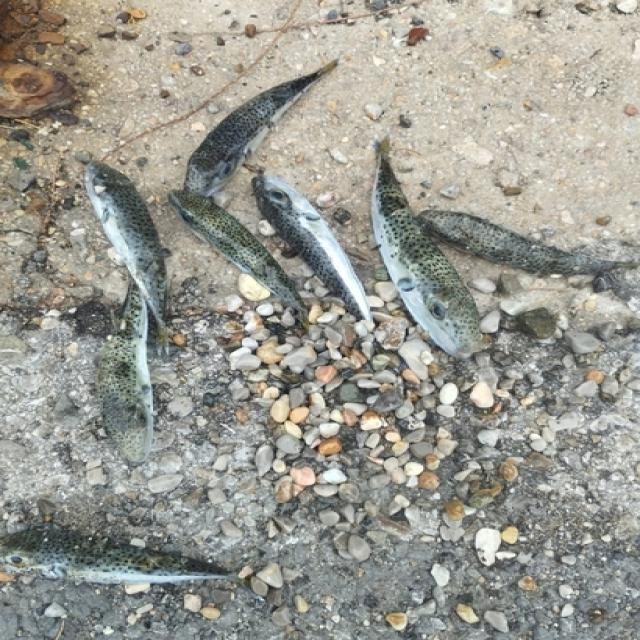Balik: (372, 137, 483, 358), (185, 58, 341, 197), (169, 190, 307, 321), (252, 175, 371, 319), (85, 162, 168, 349), (0, 528, 246, 588), (419, 210, 639, 275), (97, 280, 152, 463)
